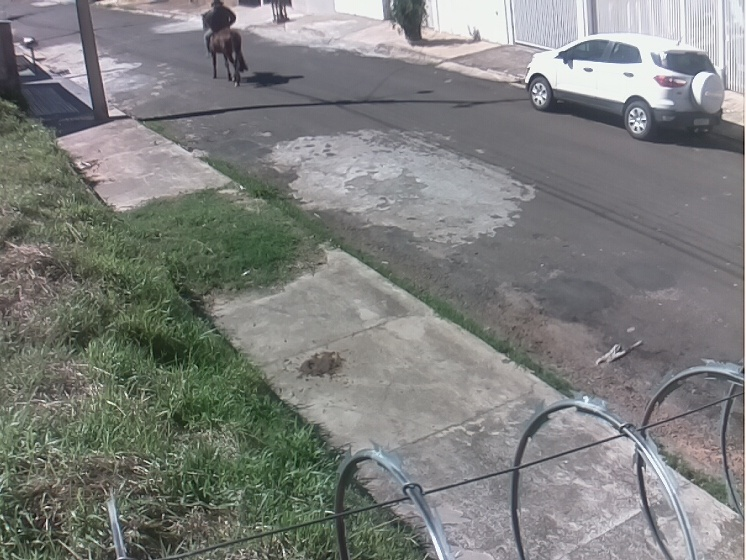person: (202, 1, 238, 55)
